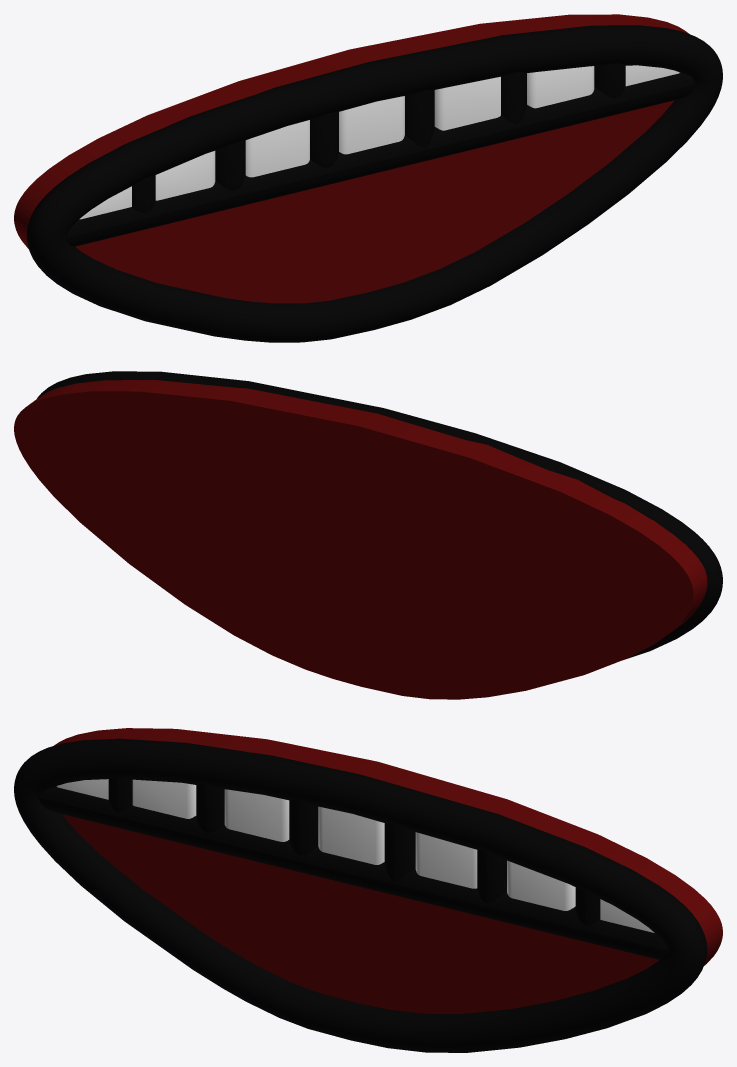
File: happyMouth1.dae
3 renders of one model, top to bottom at view 1: azimuth 30°, elevation 25°; view 2: azimuth 150°, elevation 25°; view 3: azimuth 330°, elevation 25°, orthographic.
Parts seen in each view (by area): view 1: Cube; view 2: Cube; view 3: Cube.
Part boxes in pixels (<box>): Cube: <box>14,14,722,342</box>; Cube: <box>14,371,722,699</box>; Cube: <box>14,728,722,1052</box>.
Bounding box in the file's own units: 39.47 × 14.45 × 3.1.
